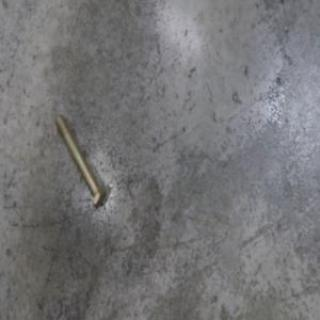Bolttrack_idkeyframe: (53, 110, 107, 210)
